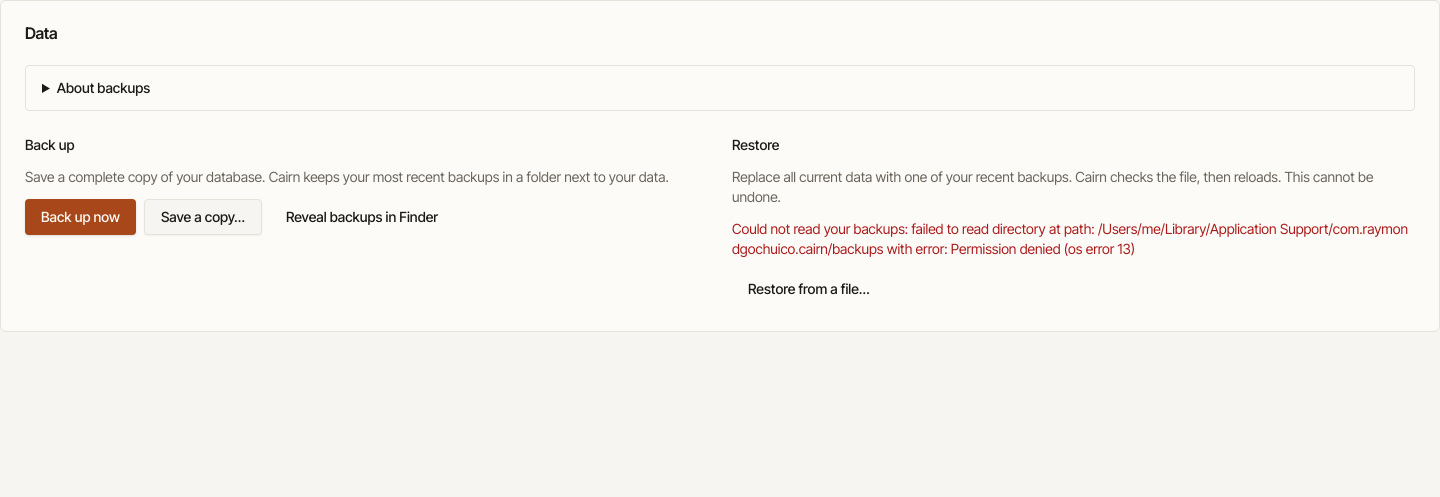
Test: DataSection × a listing failure (v1.8.0 H3, chip (a)) › the empty state comes back once a later listing succeeds empty, and the note goes with the failure
What coordinates should you click on to do the following:
click the button "Back up now"
I would click on:
 (80, 217)
Its box is [25,199,136,235].
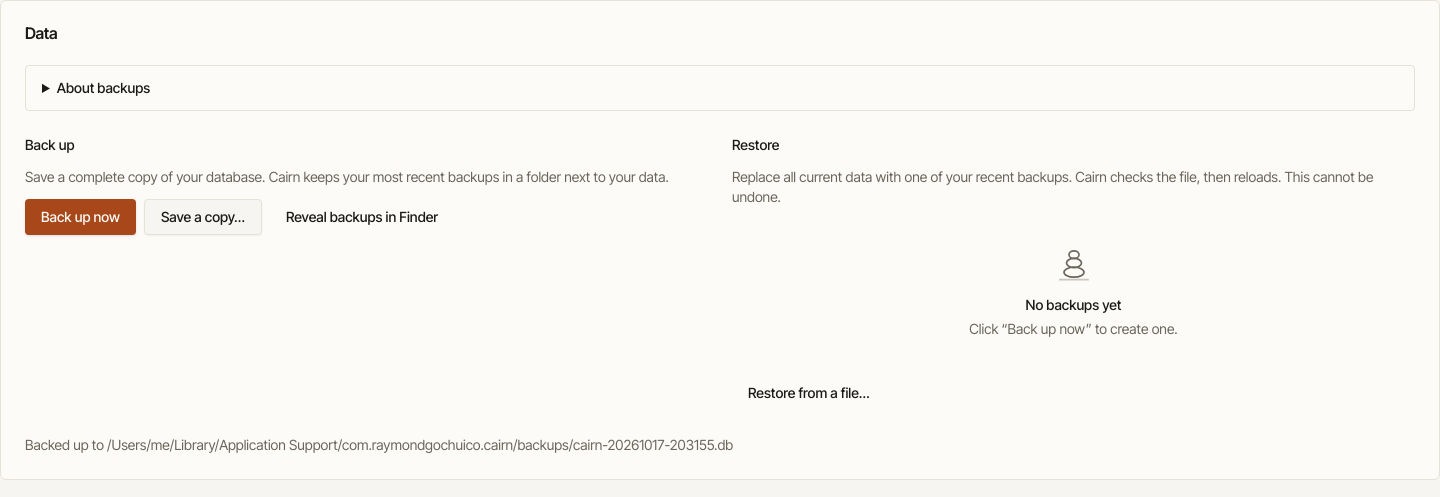
Check: the text "No backups yet" is shown, box [1026,295,1122,315]
